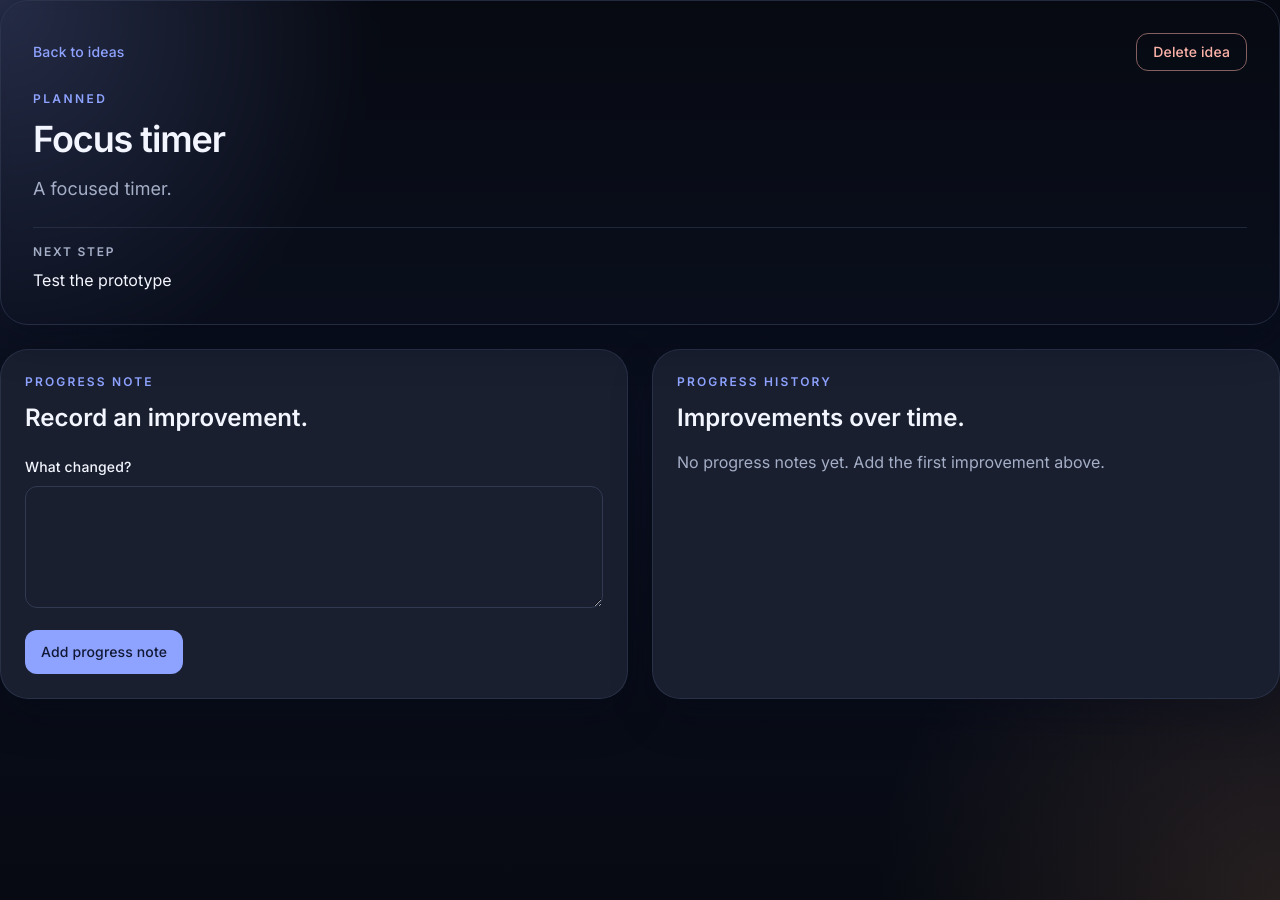
Test: ProjectIdeaDetailPage › adds a progress note and renders the returned history
Expected: the heading "Focus timer" is shown, [33,117,225,161]
Type " Tested the first prototype " into the text box labelled "What changed?" at (314, 547), box [25,486,603,608]
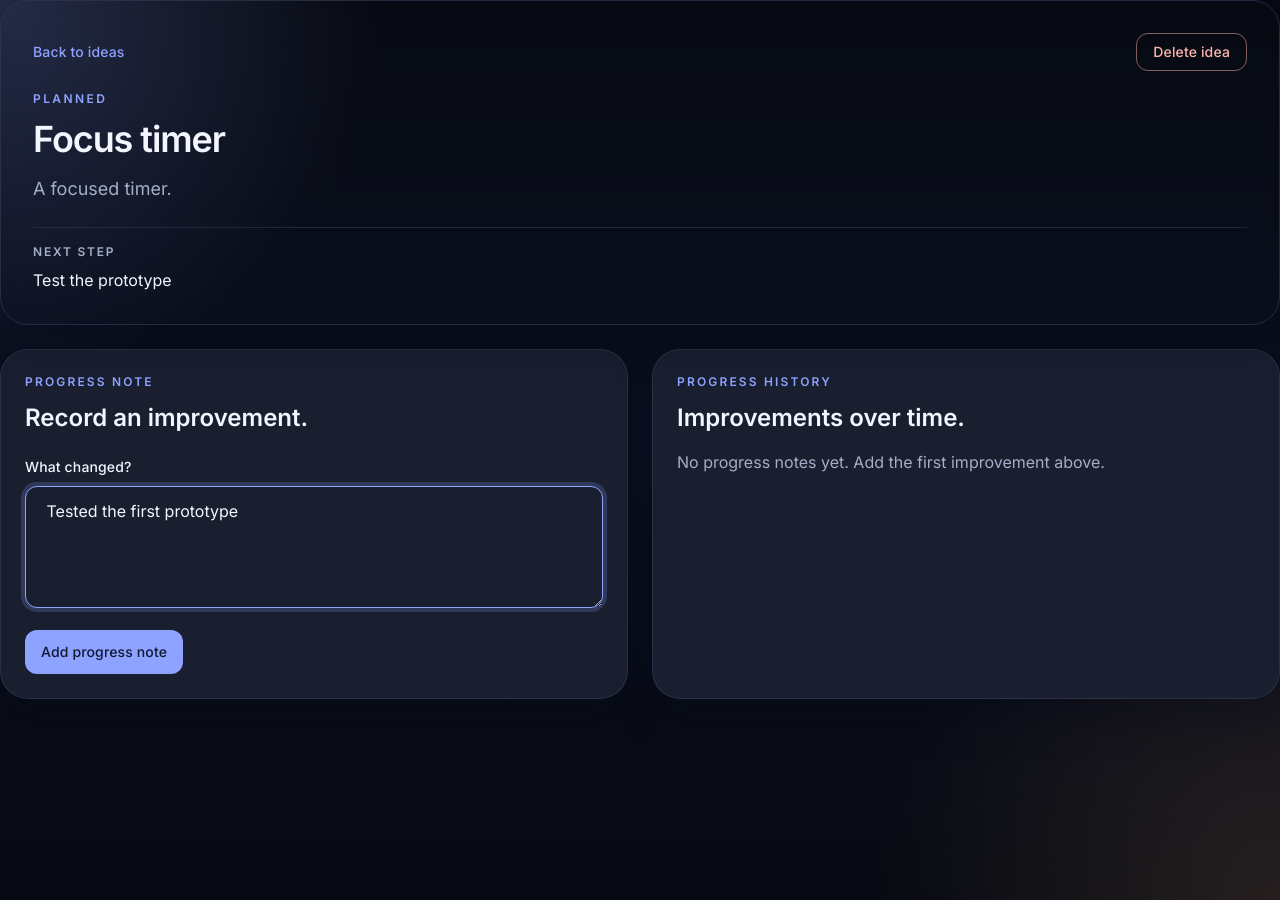
Click the button "Add progress note" at (104, 652), box [25,630,183,674]
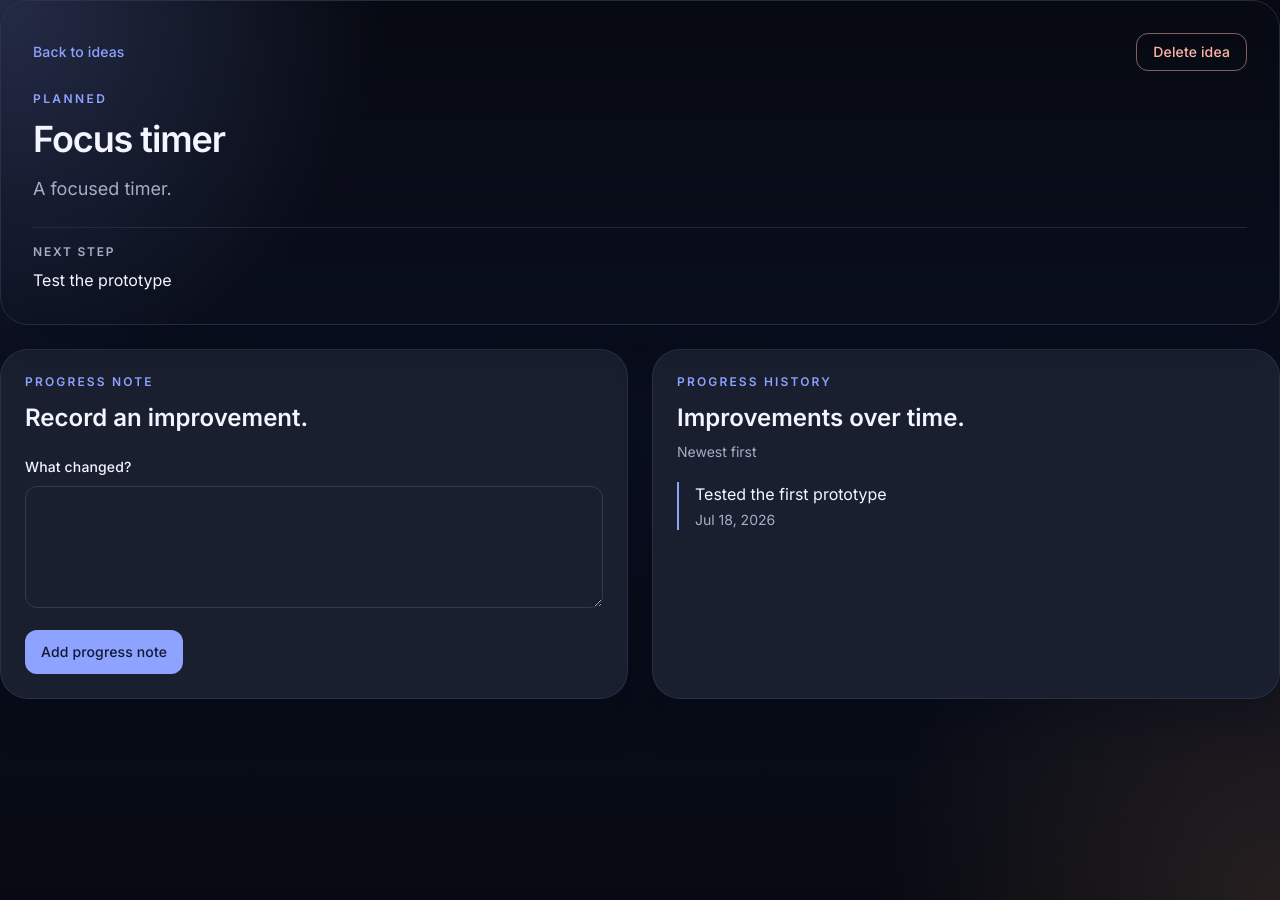
Expected: the text "Tested the first prototype" is shown, [695,484,887,504]
